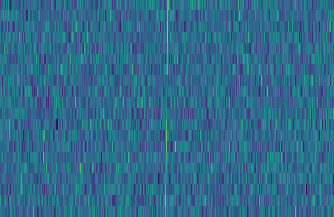signal: (160, 0, 171, 217)
